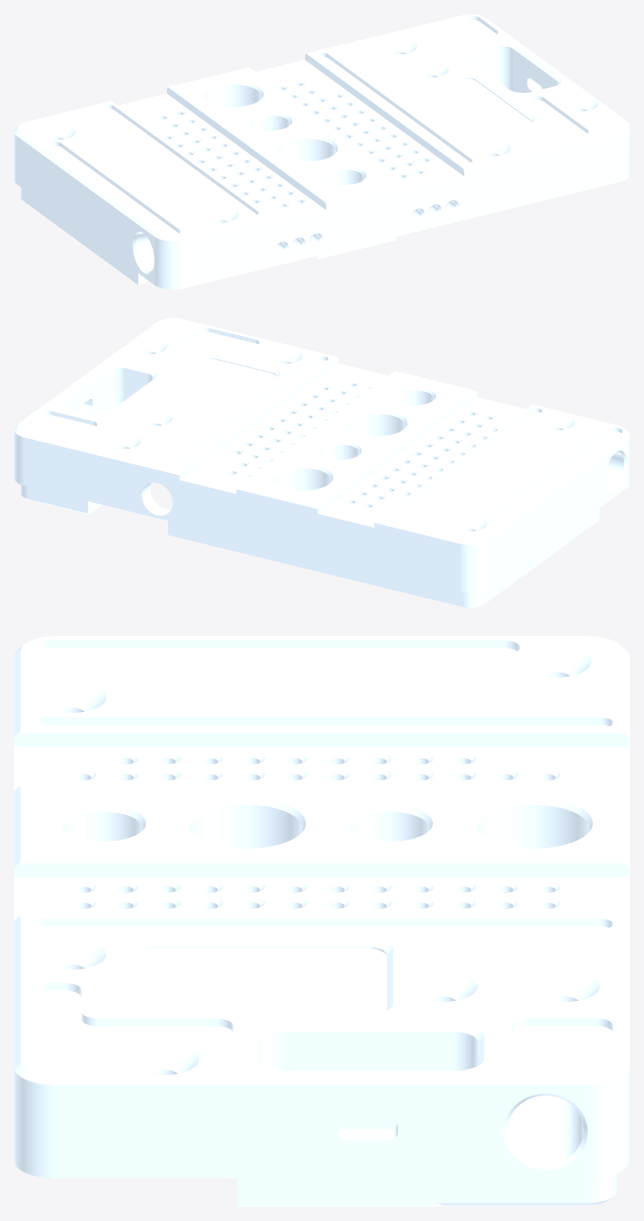
Rendered from Cap Bottom V5.dae.
3 views of the same model, one above another, from view 1: azimuth 30°, elevation 25°; view 2: azimuth 150°, elevation 25°; view 3: azimuth 270°, elevation 25° (orthographic). The views are drawn at different scales.
Parts seen in each view (by area): view 1: ID2; view 2: ID2; view 3: ID2.
Part boxes in pixels (x1,y1,x2,y2): ID2: (14,14,629,289); ID2: (14,318,629,607); ID2: (14,636,629,1206).
Size of the model in its own units: 0.125 by 0.073 by 0.0174.
